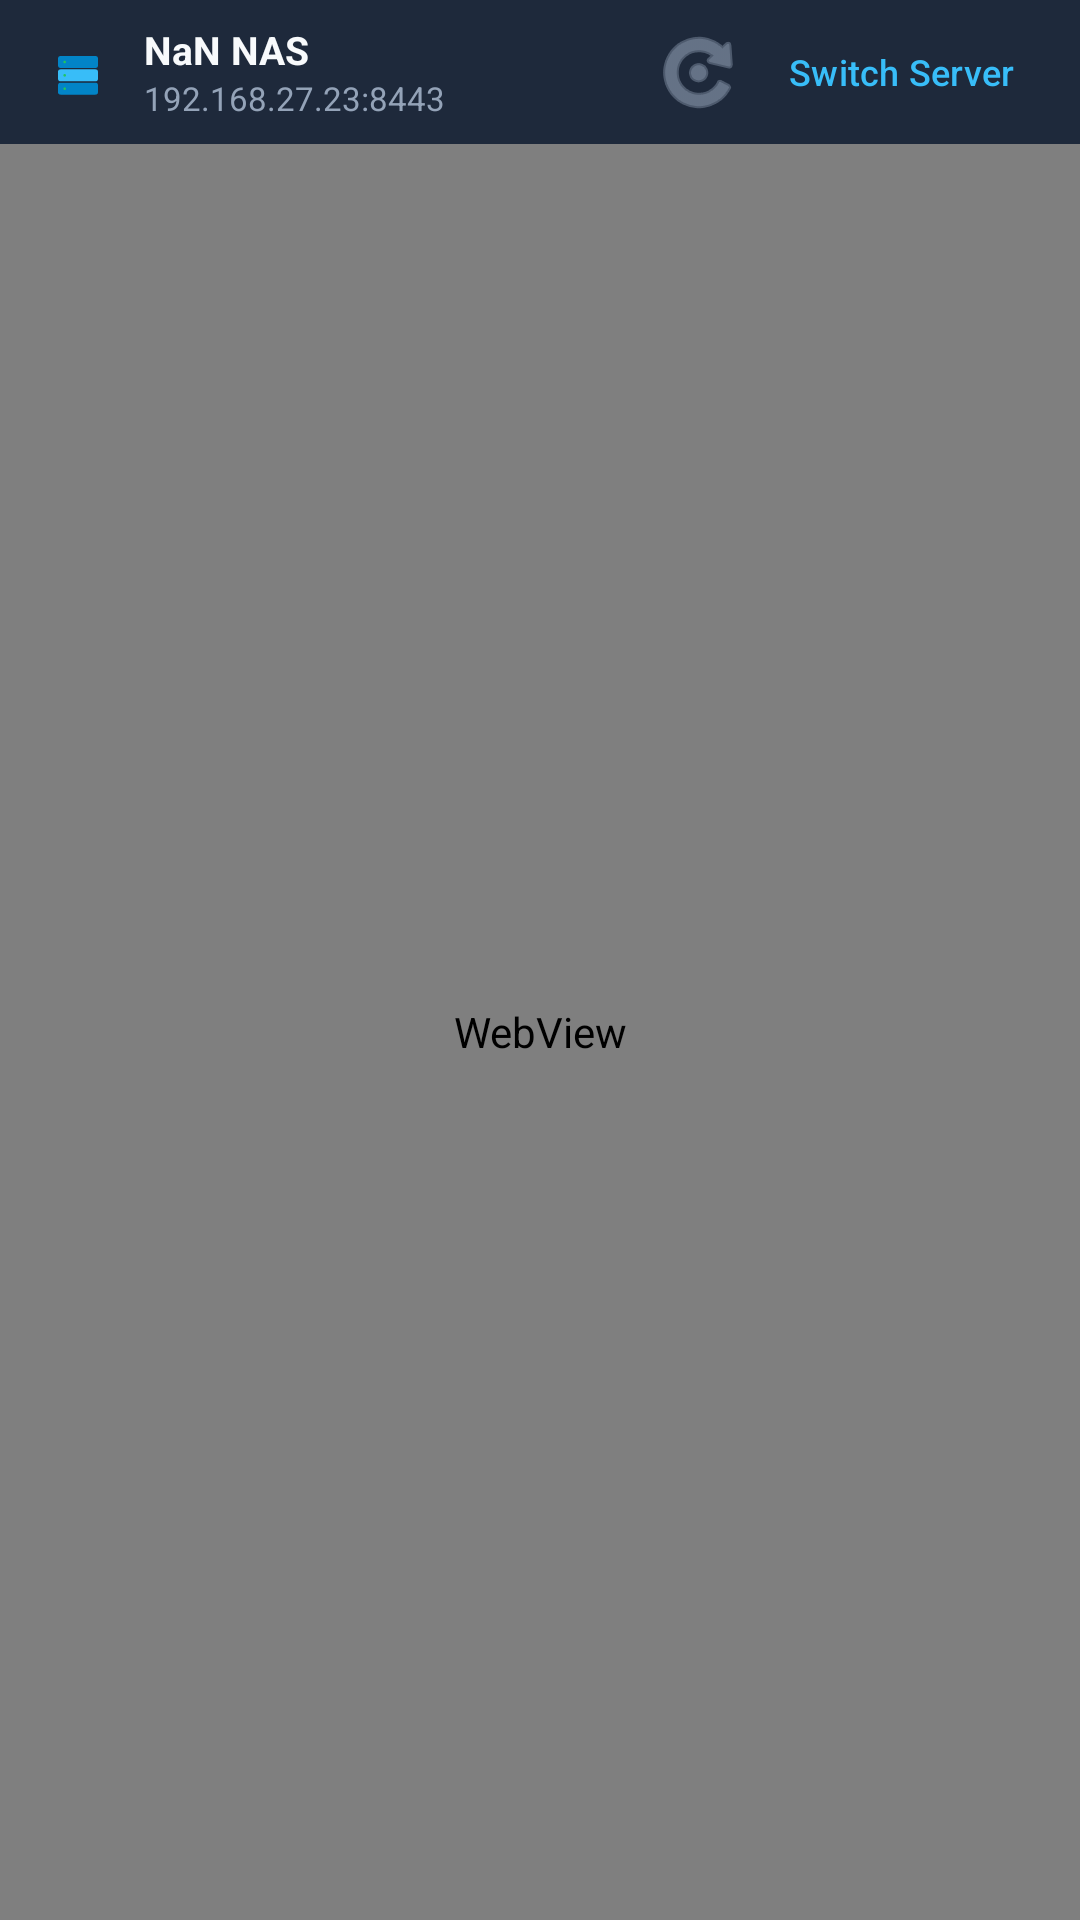

Screen size 1080×1920. Icon name, then its center in pixels as point (x, y):
Reload: point (698, 72)
